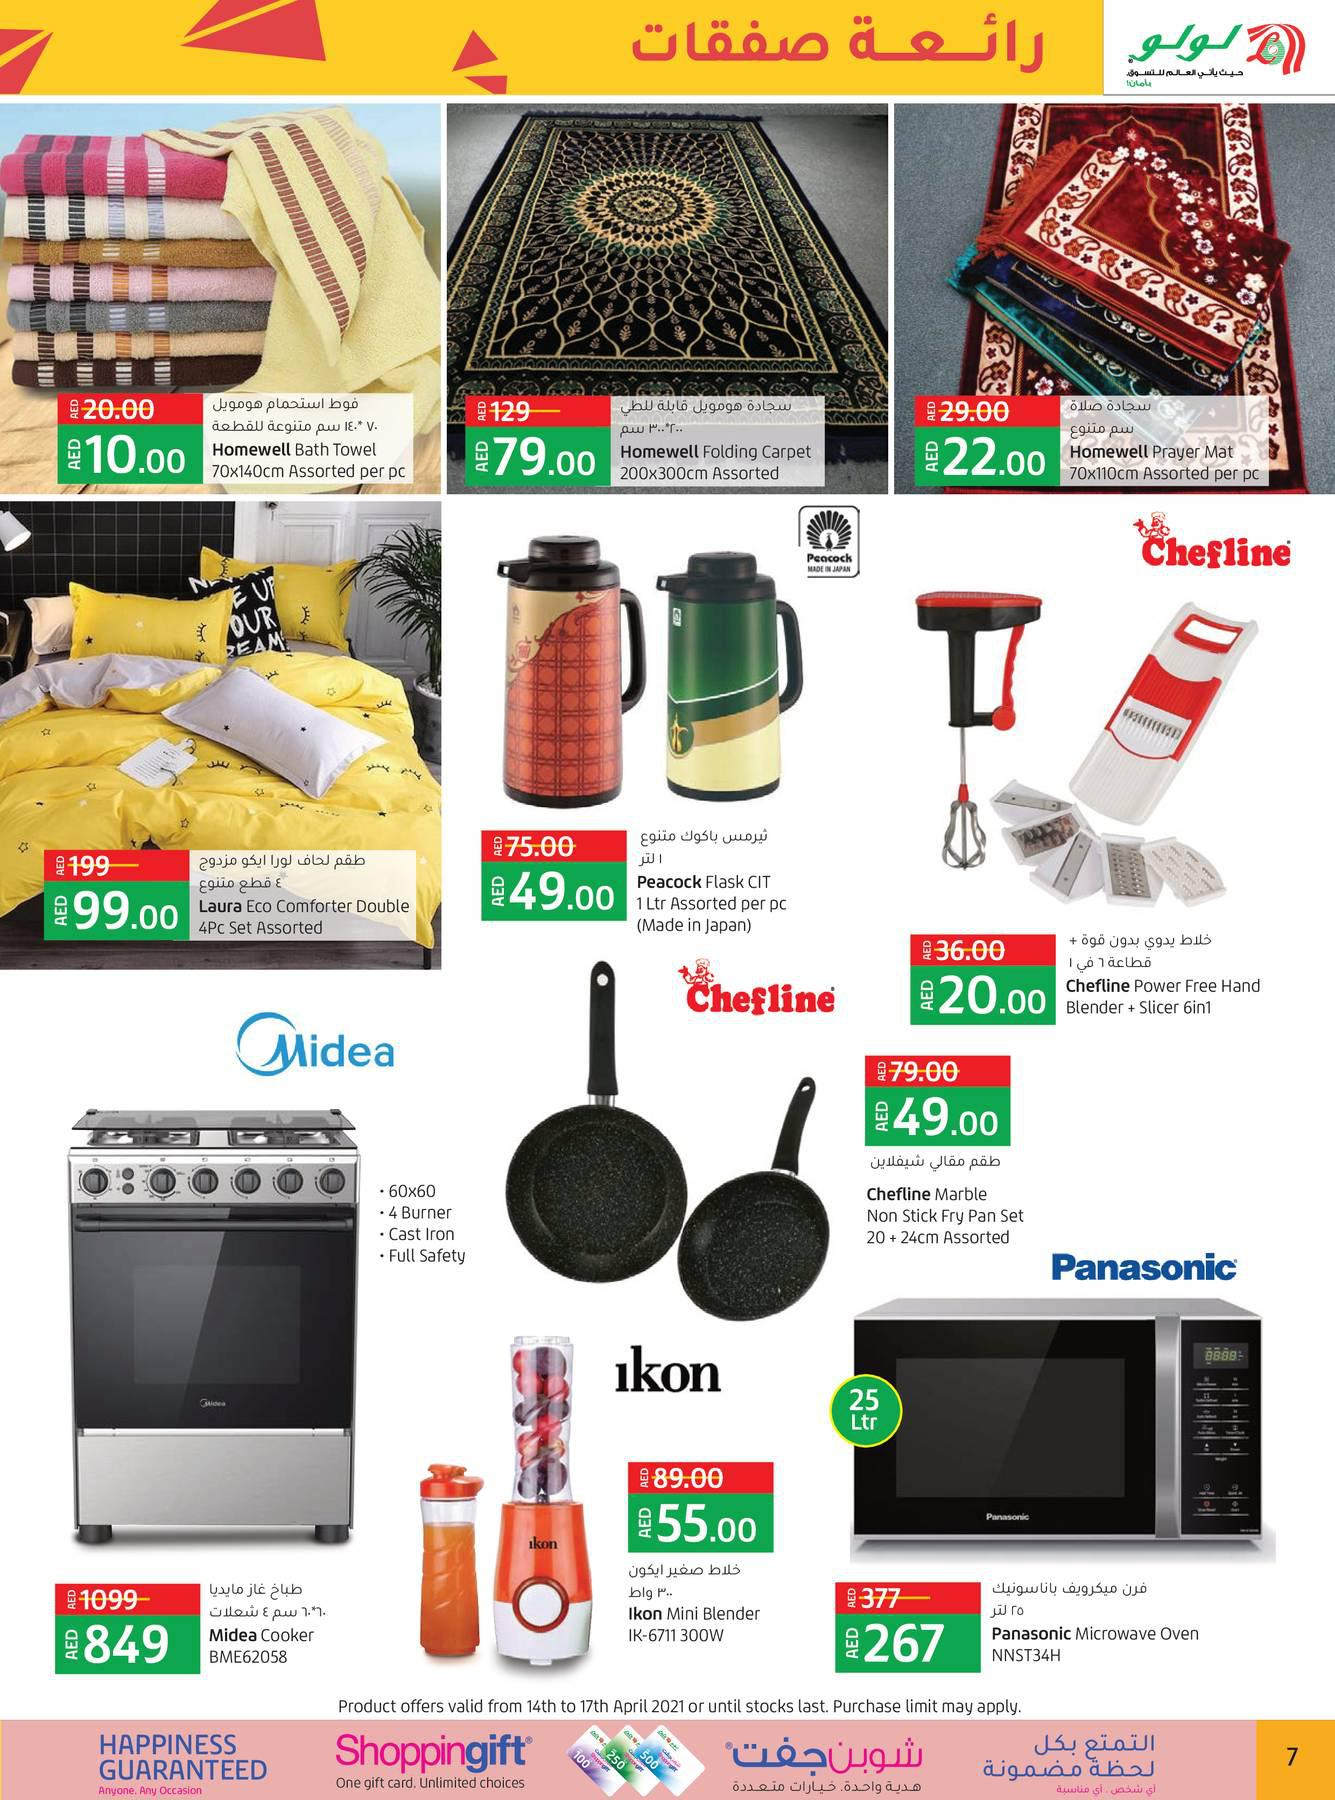text: (986, 1571, 1223, 1682), (188, 845, 416, 939), (1056, 929, 1275, 1025), (202, 391, 416, 485), (850, 1147, 1036, 1255), (631, 820, 792, 945), (1059, 393, 1270, 486), (611, 395, 825, 486), (201, 1574, 366, 1677), (621, 1557, 782, 1658)
